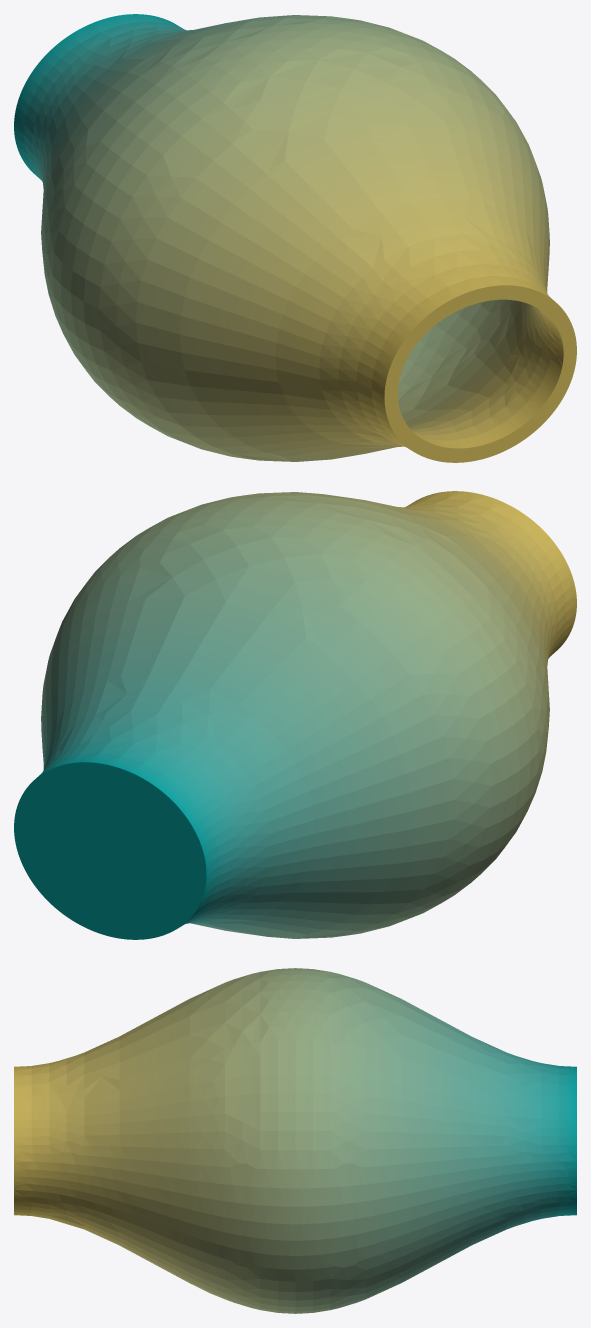
File: 03_math_vase.glb
3 renders of one model, top to bottom at view 1: azimuth 30°, elevation 25°; view 2: azimuth 150°, elevation 25°; view 3: azimuth 270°, elevation 25°, orthographic. The views are drawn at different scales.
Parts seen in each view (by area): view 1: 03_math_vase.stl; view 2: 03_math_vase.stl; view 3: 03_math_vase.stl.
Part boxes in pixels (x1,y1,x2,y2): 03_math_vase.stl: (14,14,576,462); 03_math_vase.stl: (14,491,576,939); 03_math_vase.stl: (14,968,576,1313).
Size of the model in its own units: 84 by 71.4 by 120.
